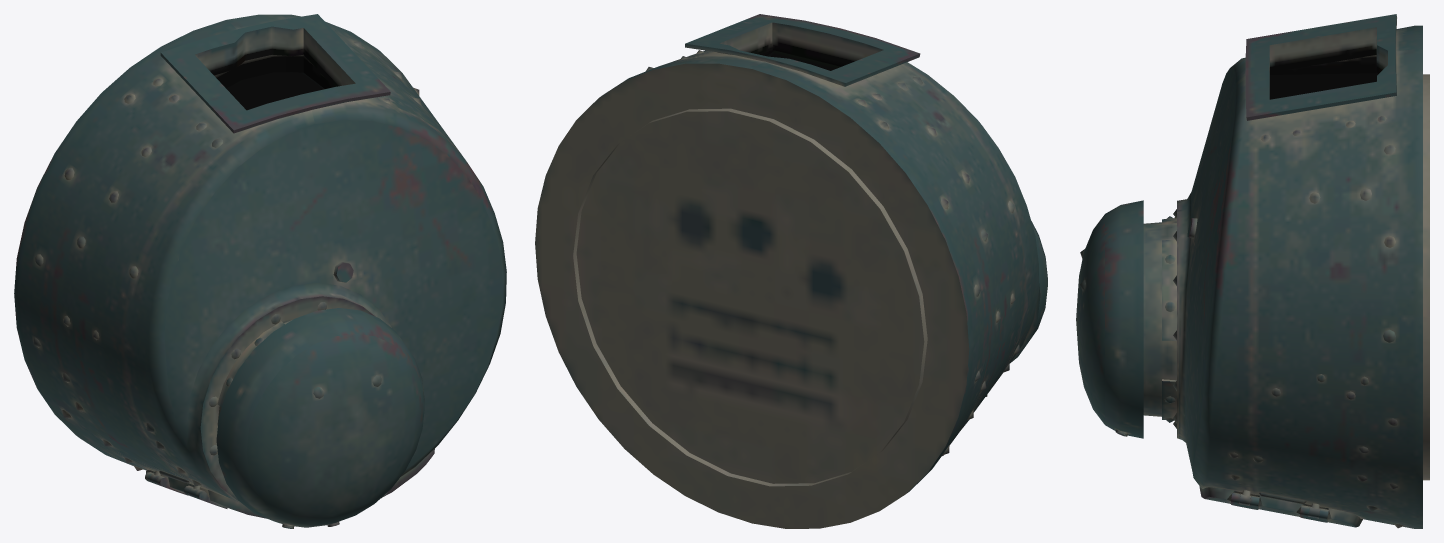
Rendered from Turret_02.glb.
The picture shows the model from 3 angles, left to right: view 1: azimuth 30°, elevation 25°; view 2: azimuth 150°, elevation 25°; view 3: azimuth 270°, elevation 25°; orthographic projection. The views are drawn at different scales.
Parts seen in each view (by area): view 1: set_0_group_0; view 2: set_0_group_0; view 3: set_0_group_0.
Part boxes in pixels (x1,y1,x2,y2): set_0_group_0: (14, 14, 506, 528); set_0_group_0: (535, 14, 1047, 528); set_0_group_0: (1076, 14, 1429, 528).
Bounding box in the file's own units: 1.13 × 1.13 × 0.7934.
1 material, 1 textured.
